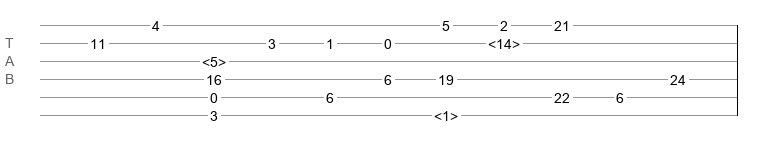0: (210, 90, 218, 100), (384, 36, 392, 46)
1: (326, 36, 334, 46)
11: (90, 36, 106, 46)
16: (206, 72, 222, 82)
19: (438, 72, 454, 82)
2: (500, 18, 508, 28)
21: (554, 18, 570, 28)
22: (554, 90, 570, 100)
24: (670, 72, 686, 82)
3: (210, 108, 218, 118), (268, 36, 276, 46)
4: (152, 18, 160, 28)
5: (442, 18, 450, 28)
6: (326, 90, 334, 100), (384, 72, 392, 82), (616, 90, 624, 100)
harmonic: (488, 36, 520, 46), (202, 54, 226, 64), (434, 108, 458, 118)
